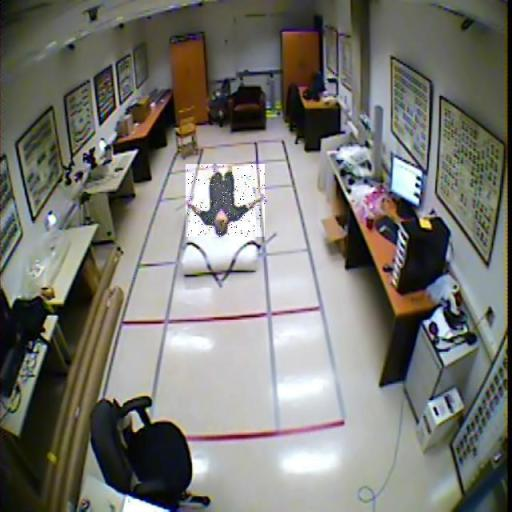Fall: (186, 164, 265, 237)
